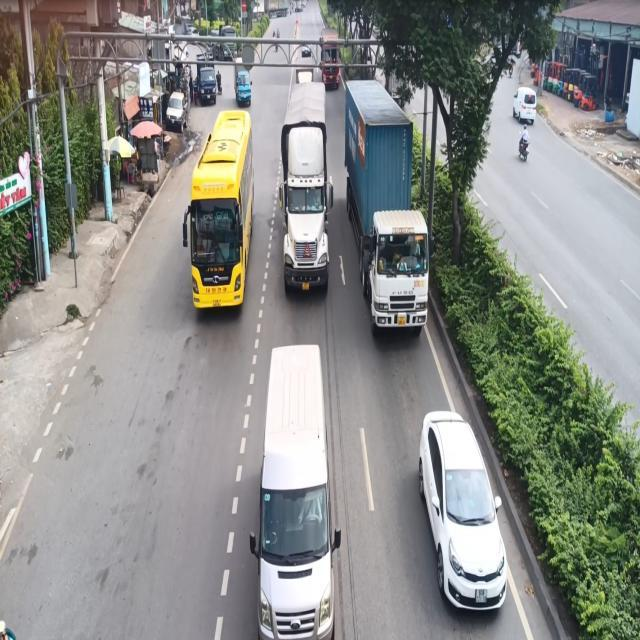bus: (181, 109, 254, 310)
car: (248, 343, 340, 639), (417, 410, 508, 612)
container-truck: (343, 78, 431, 334), (277, 65, 333, 294)
motorcycle: (517, 127, 529, 160)
